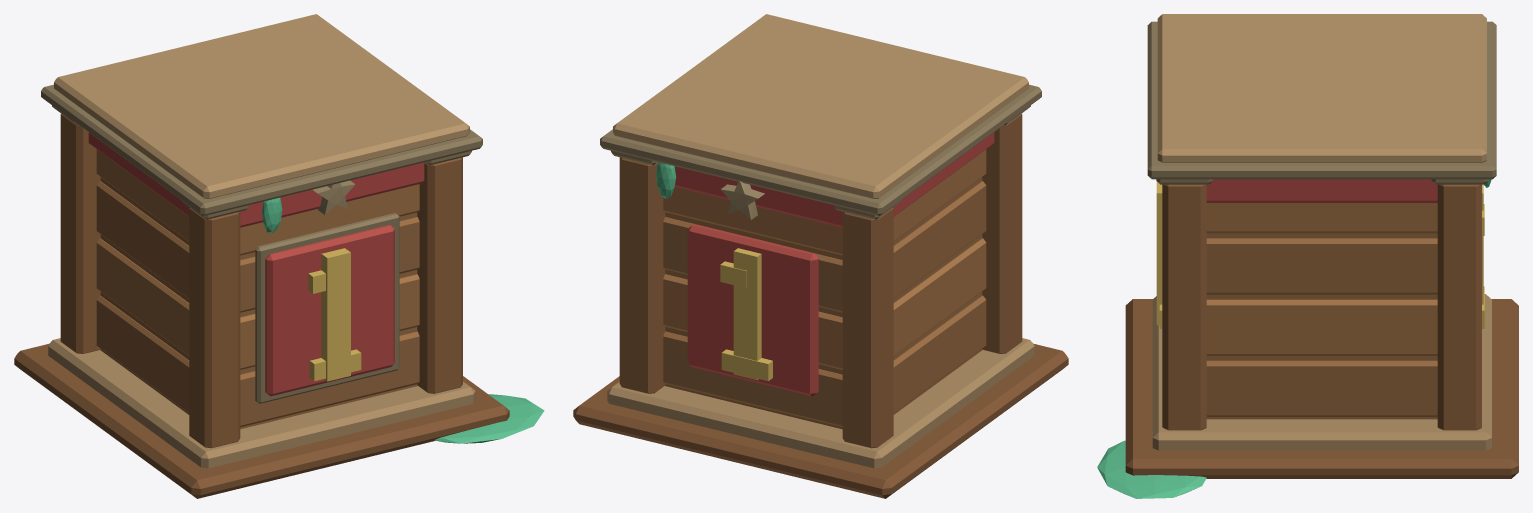
File: phoenix_plaza_podium_1.fbx
The picture shows the model from 3 angles, left to right: view 1: azimuth 30°, elevation 25°; view 2: azimuth 150°, elevation 25°; view 3: azimuth 270°, elevation 25°; orthographic projection. The views are drawn at different scales.
Parts seen in each view (by area): view 1: phoenix_plaza_podium_1; view 2: phoenix_plaza_podium_1; view 3: phoenix_plaza_podium_1.
Boxes of the visible parts, box(x1,y1,x2,y2) form: phoenix_plaza_podium_1: box(14, 14, 544, 498); phoenix_plaza_podium_1: box(573, 14, 1068, 498); phoenix_plaza_podium_1: box(1097, 14, 1518, 498).
Bounding box in the file's own units: 8.92 × 7.19 × 8.58.
